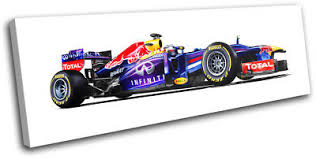FormulaOneCar: (48, 26, 293, 110)
